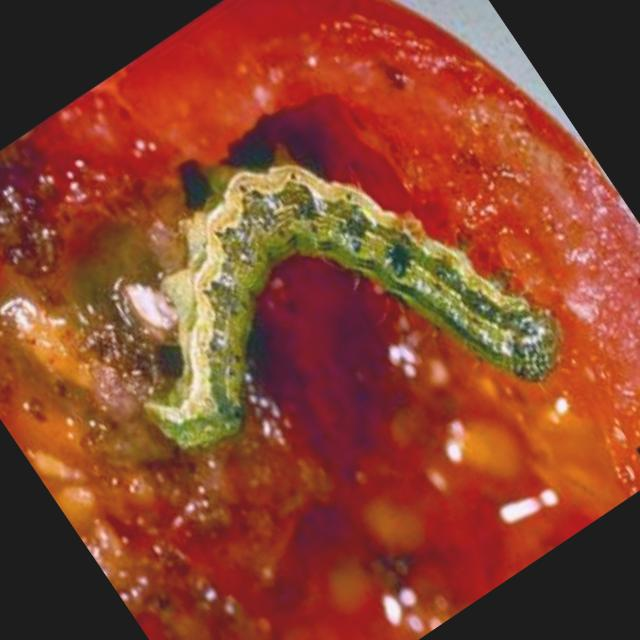Cotton bollworm: (26, 37, 616, 615)
